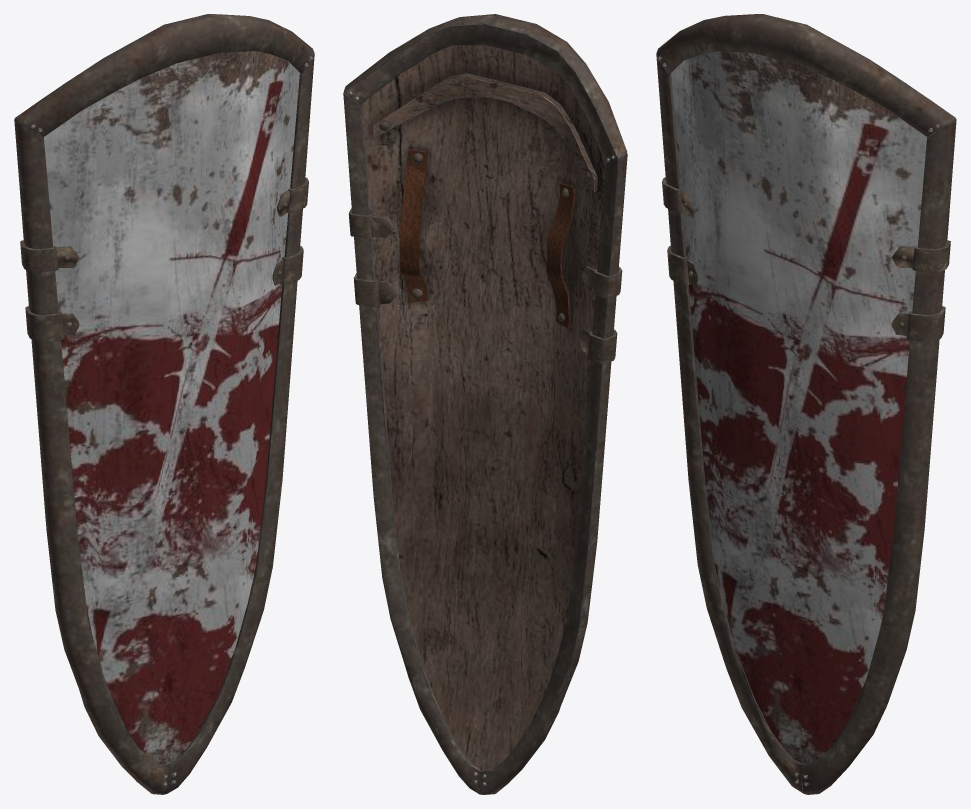
The model's file is kite_shield.glb.
The picture shows the model from 3 angles, left to right: view 1: azimuth 30°, elevation 25°; view 2: azimuth 150°, elevation 25°; view 3: azimuth 330°, elevation 25°; orthographic projection. The views are drawn at different scales.
Parts seen in each view (by area): view 1: kite_shield_body; view 2: kite_shield_body; view 3: kite_shield_body.
Boxes of the visible parts, x1,y1,x2,y2 form: kite_shield_body: [14, 14, 314, 794]; kite_shield_body: [343, 14, 627, 794]; kite_shield_body: [656, 14, 956, 794].
Size of the model in its own units: 0.5441 by 1.39 by 0.1347.
2 materials, 2 textured.
